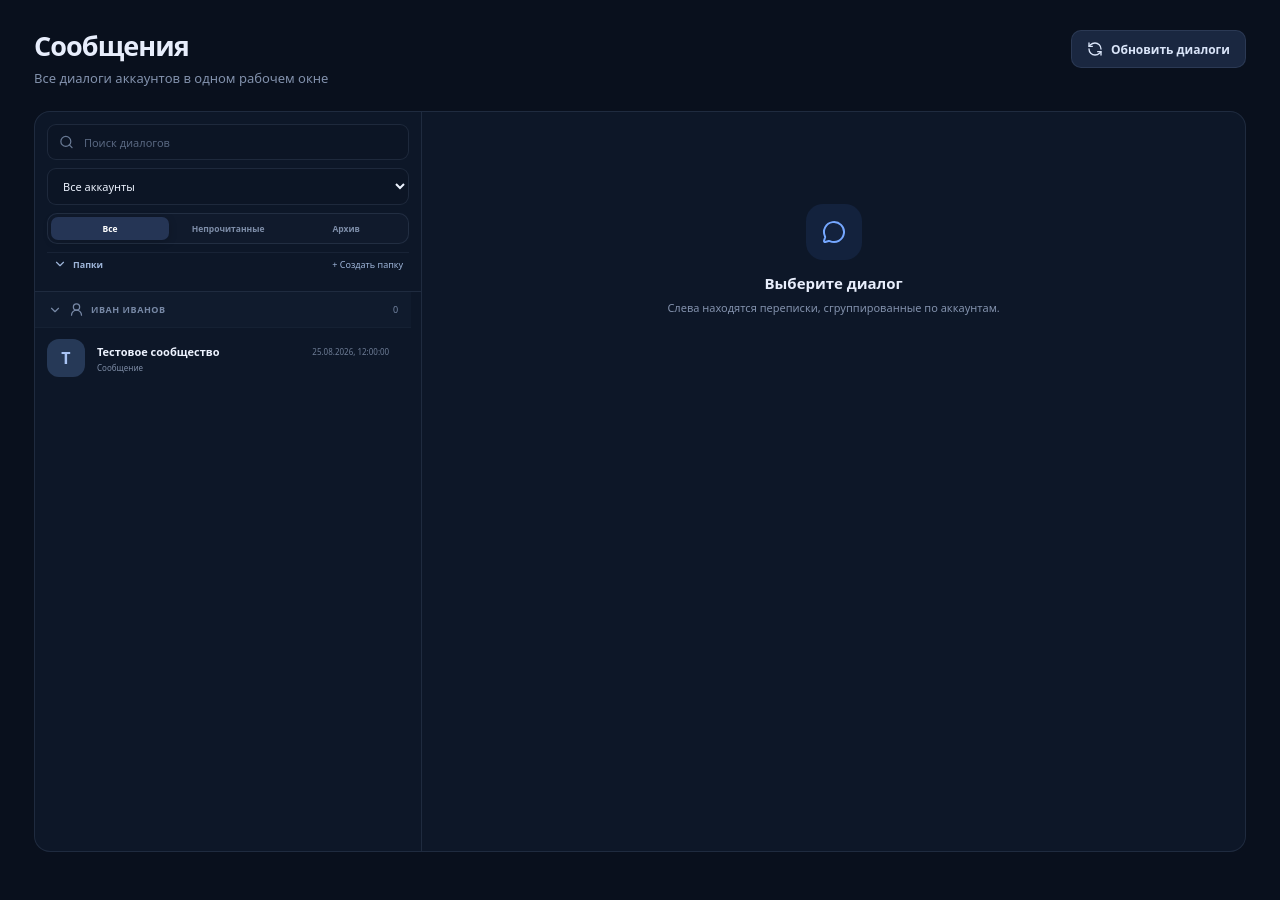
Scenario: InboxPage v0.4.0 › keeps history visible but hides the composer when VK forbids replies
The width and height of the screenshot is (1280, 900).
Step 1. Click the button "Т Тестовое сообщество 25.08.2026, 12:00:00 Сообщение" → (66, 358), box [35,327,411,388]
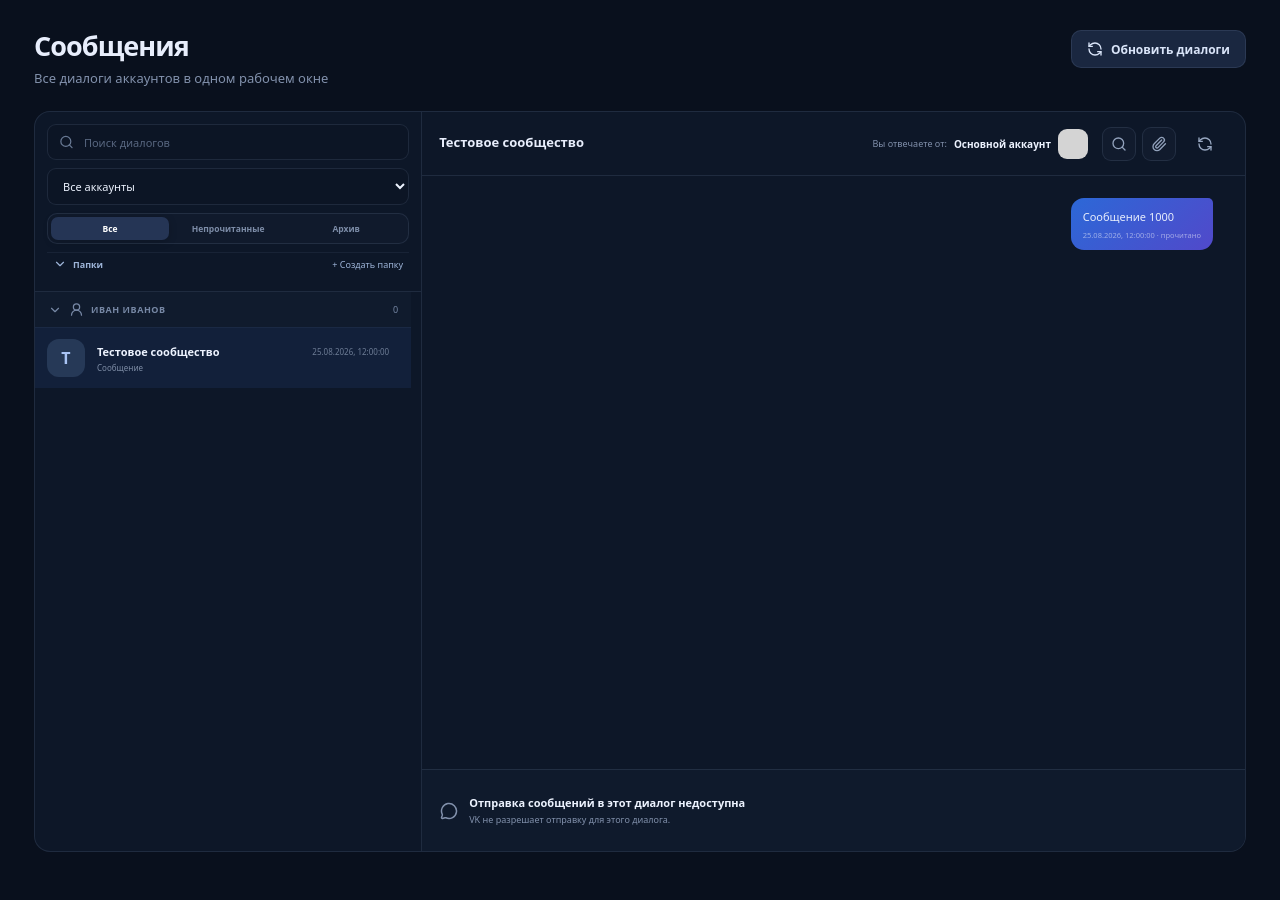
Result: the text "Сообщение 1000" is shown at [1083,209,1174,224]
Result: the text "Отправка сообщений в этот диалог недоступна" is shown at [469,795,745,810]
